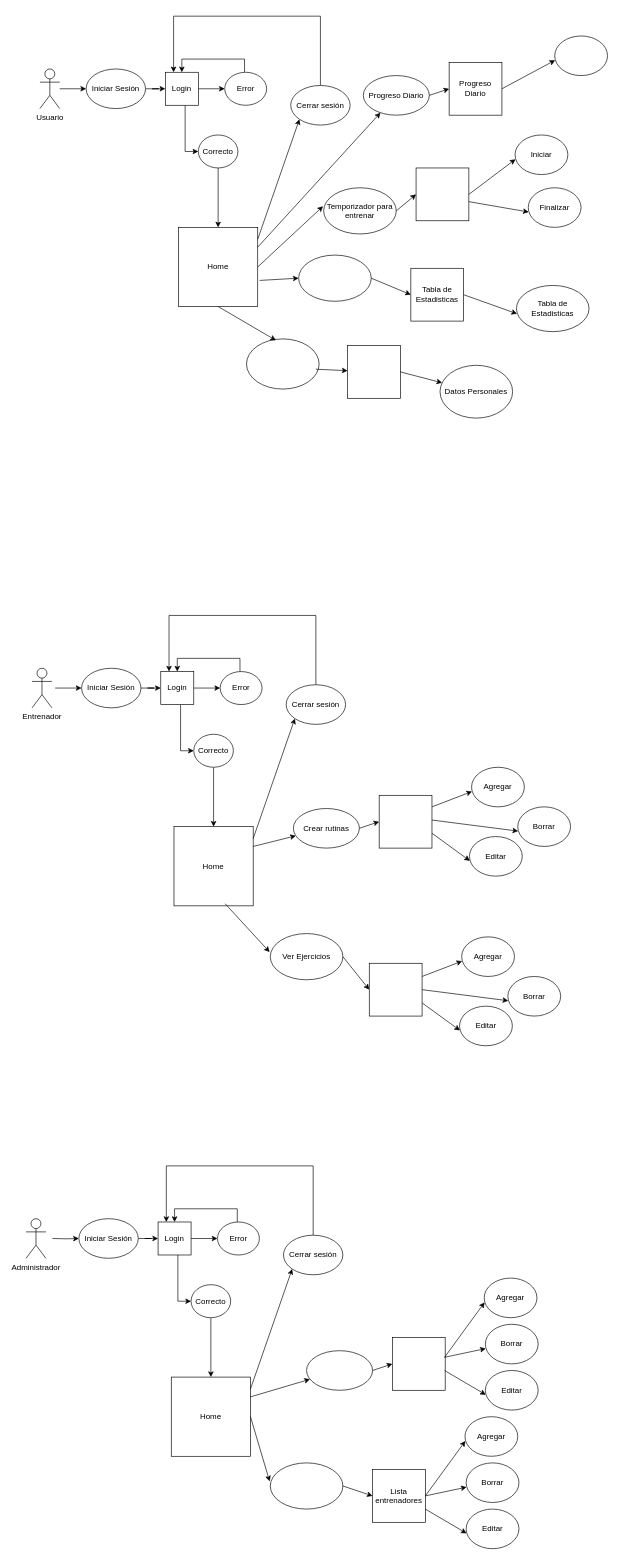
The diagram is 619 pixels wide and 1560 high, and some of its shapes have lost their labels. The box of each missing label's shape, as (x1, y1, x2, y2) in pixels:
Editar Datos personales: (246, 338, 319, 389)
Formulario Datos personales: (347, 345, 400, 398)
Lista ejercicios: (369, 963, 422, 1016)
Lista usuarios: (392, 1337, 445, 1390)
Registrarlo: (554, 35, 608, 76)
Rutinas de ejercicios: (379, 795, 432, 848)
Temporizador: (415, 167, 469, 221)
Ver entrenadores: (270, 1462, 343, 1509)
Ver Estadisticas: (298, 254, 371, 301)
Ver usuarios: (306, 1350, 373, 1390)
